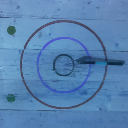Axe Tip: (75, 60, 93, 62)
